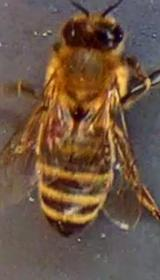varroa_mite: (30, 110, 76, 155)
